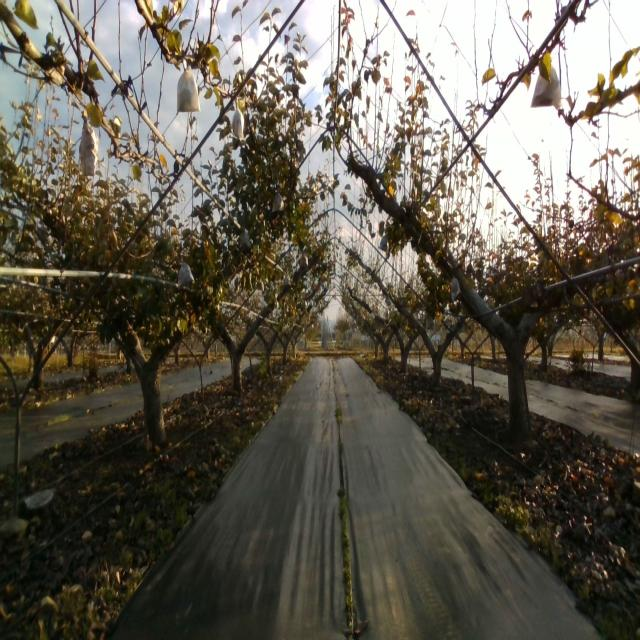pearbags: (176, 58, 200, 116), (531, 65, 562, 109), (79, 112, 96, 176), (177, 258, 195, 291), (232, 100, 245, 139), (239, 225, 252, 252), (272, 189, 284, 214), (450, 274, 461, 301)
